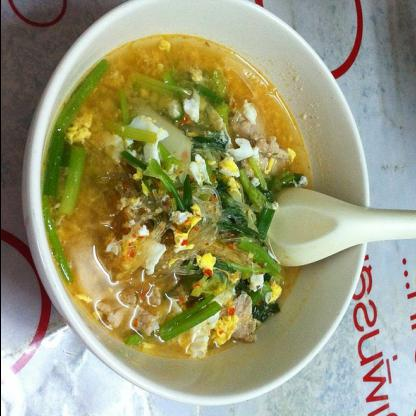Suki: (39, 37, 343, 371)
